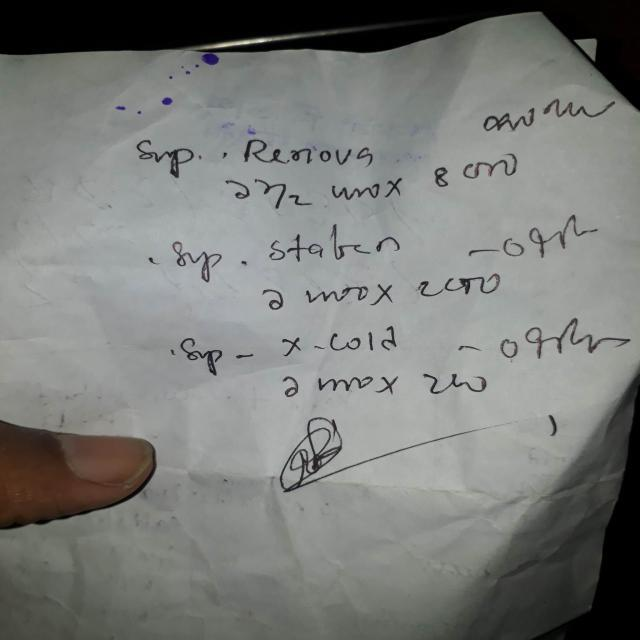medicine: (236, 130, 386, 176), (274, 330, 408, 366)
